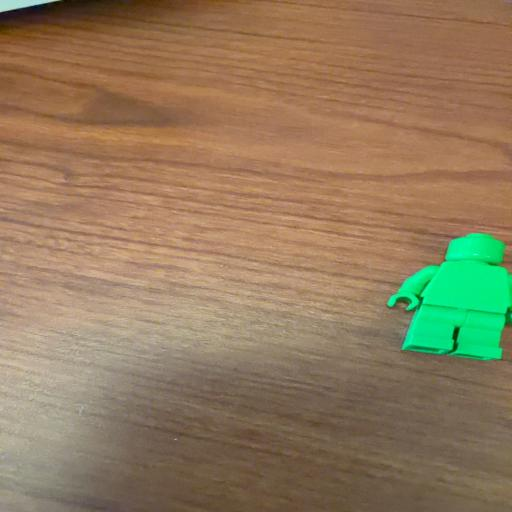UnoQ-minifig-detector: (388, 233, 512, 360)
